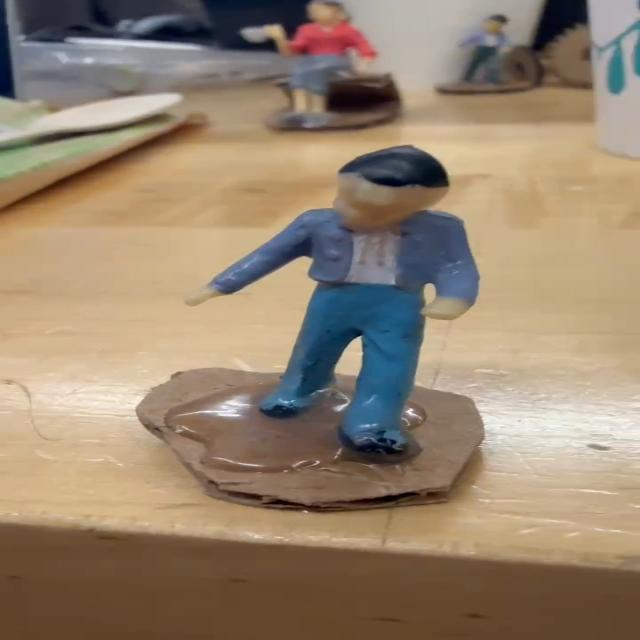Authorized: (206, 137, 582, 514)
